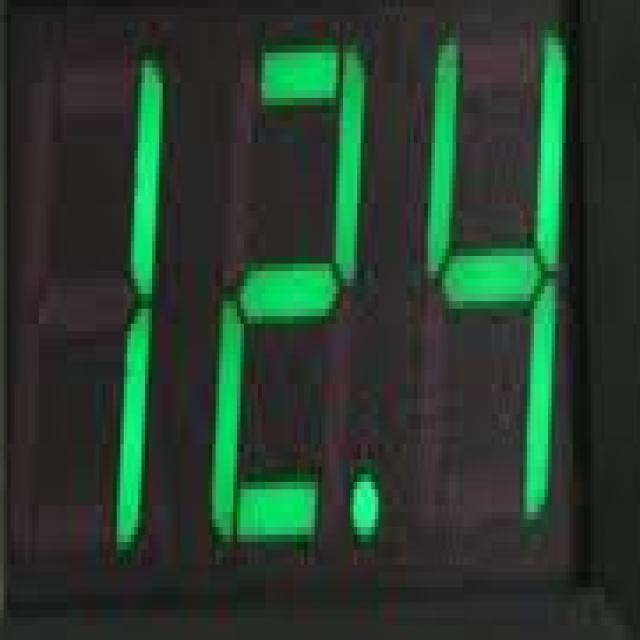.: (349, 469, 384, 547)
1: (93, 12, 178, 572)
2: (209, 15, 376, 551)
4: (411, 3, 576, 575)
screen: (9, 6, 595, 590)
